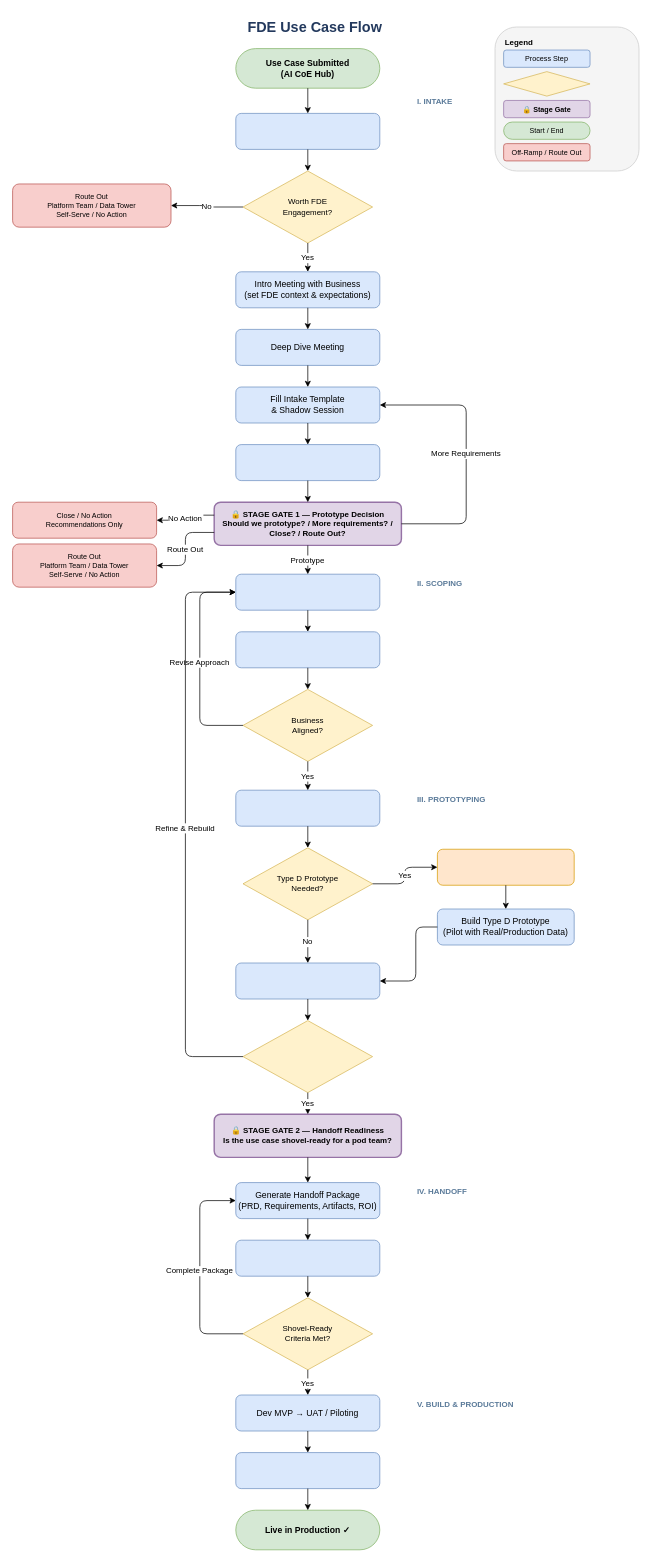
Image size: 652x1562. Some labels were removed from this diagram. The centre of each missing label's shape, as x and y in pixels:
Alfonso & Team Gate Sign-off Required: the point at 505,867
Build Prototype (Type A / B / C): the point at 307,807
Decision: the point at 546,83
FDE Initial Review: the point at 307,131
Finalize Intake Template & Identify Remaining Gaps: the point at 307,462
Hand Off to Pod Team (Travis + Katie alignment): the point at 307,1257
Outline Expected Impact & Present to Business: the point at 307,649
Production Build: the point at 307,1470
Prototype Review with Business: the point at 307,980
Scope Prototype & Diagram Future State Workflow: the point at 307,591
Validates Approach?: the point at 307,1056
